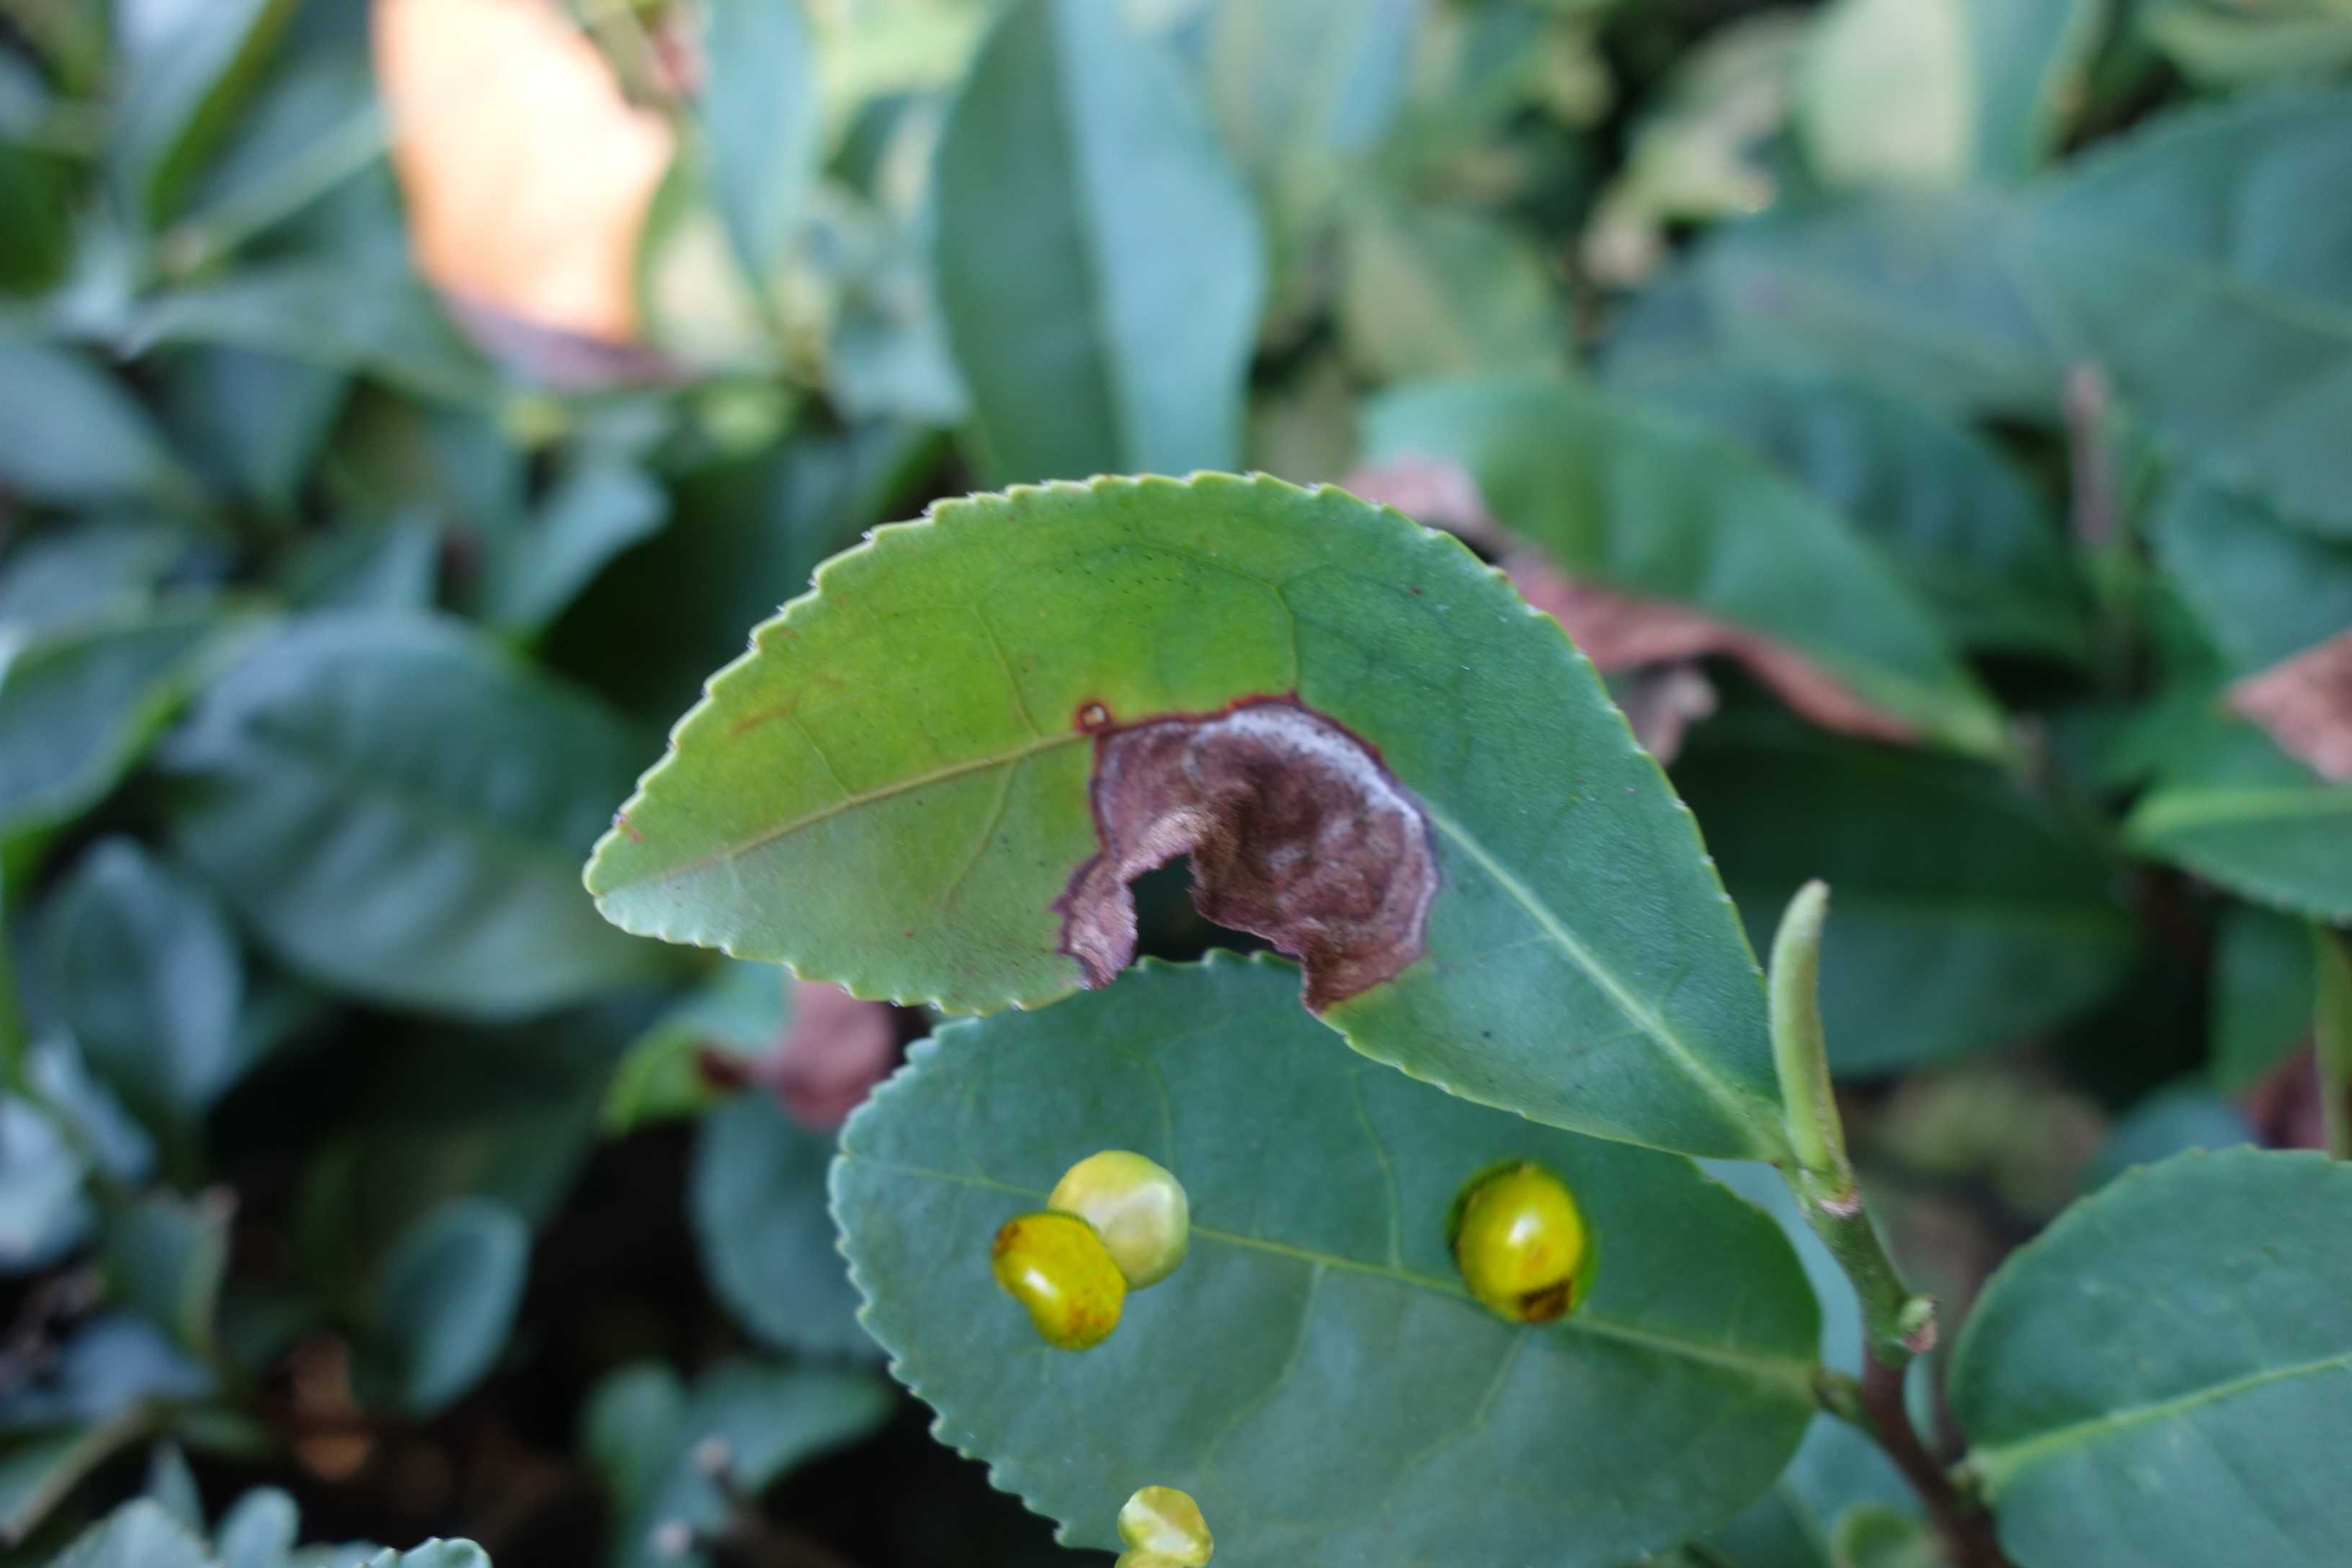chabing_high: (835, 954, 1836, 1566)
tanju_high: (574, 472, 1802, 1164)
